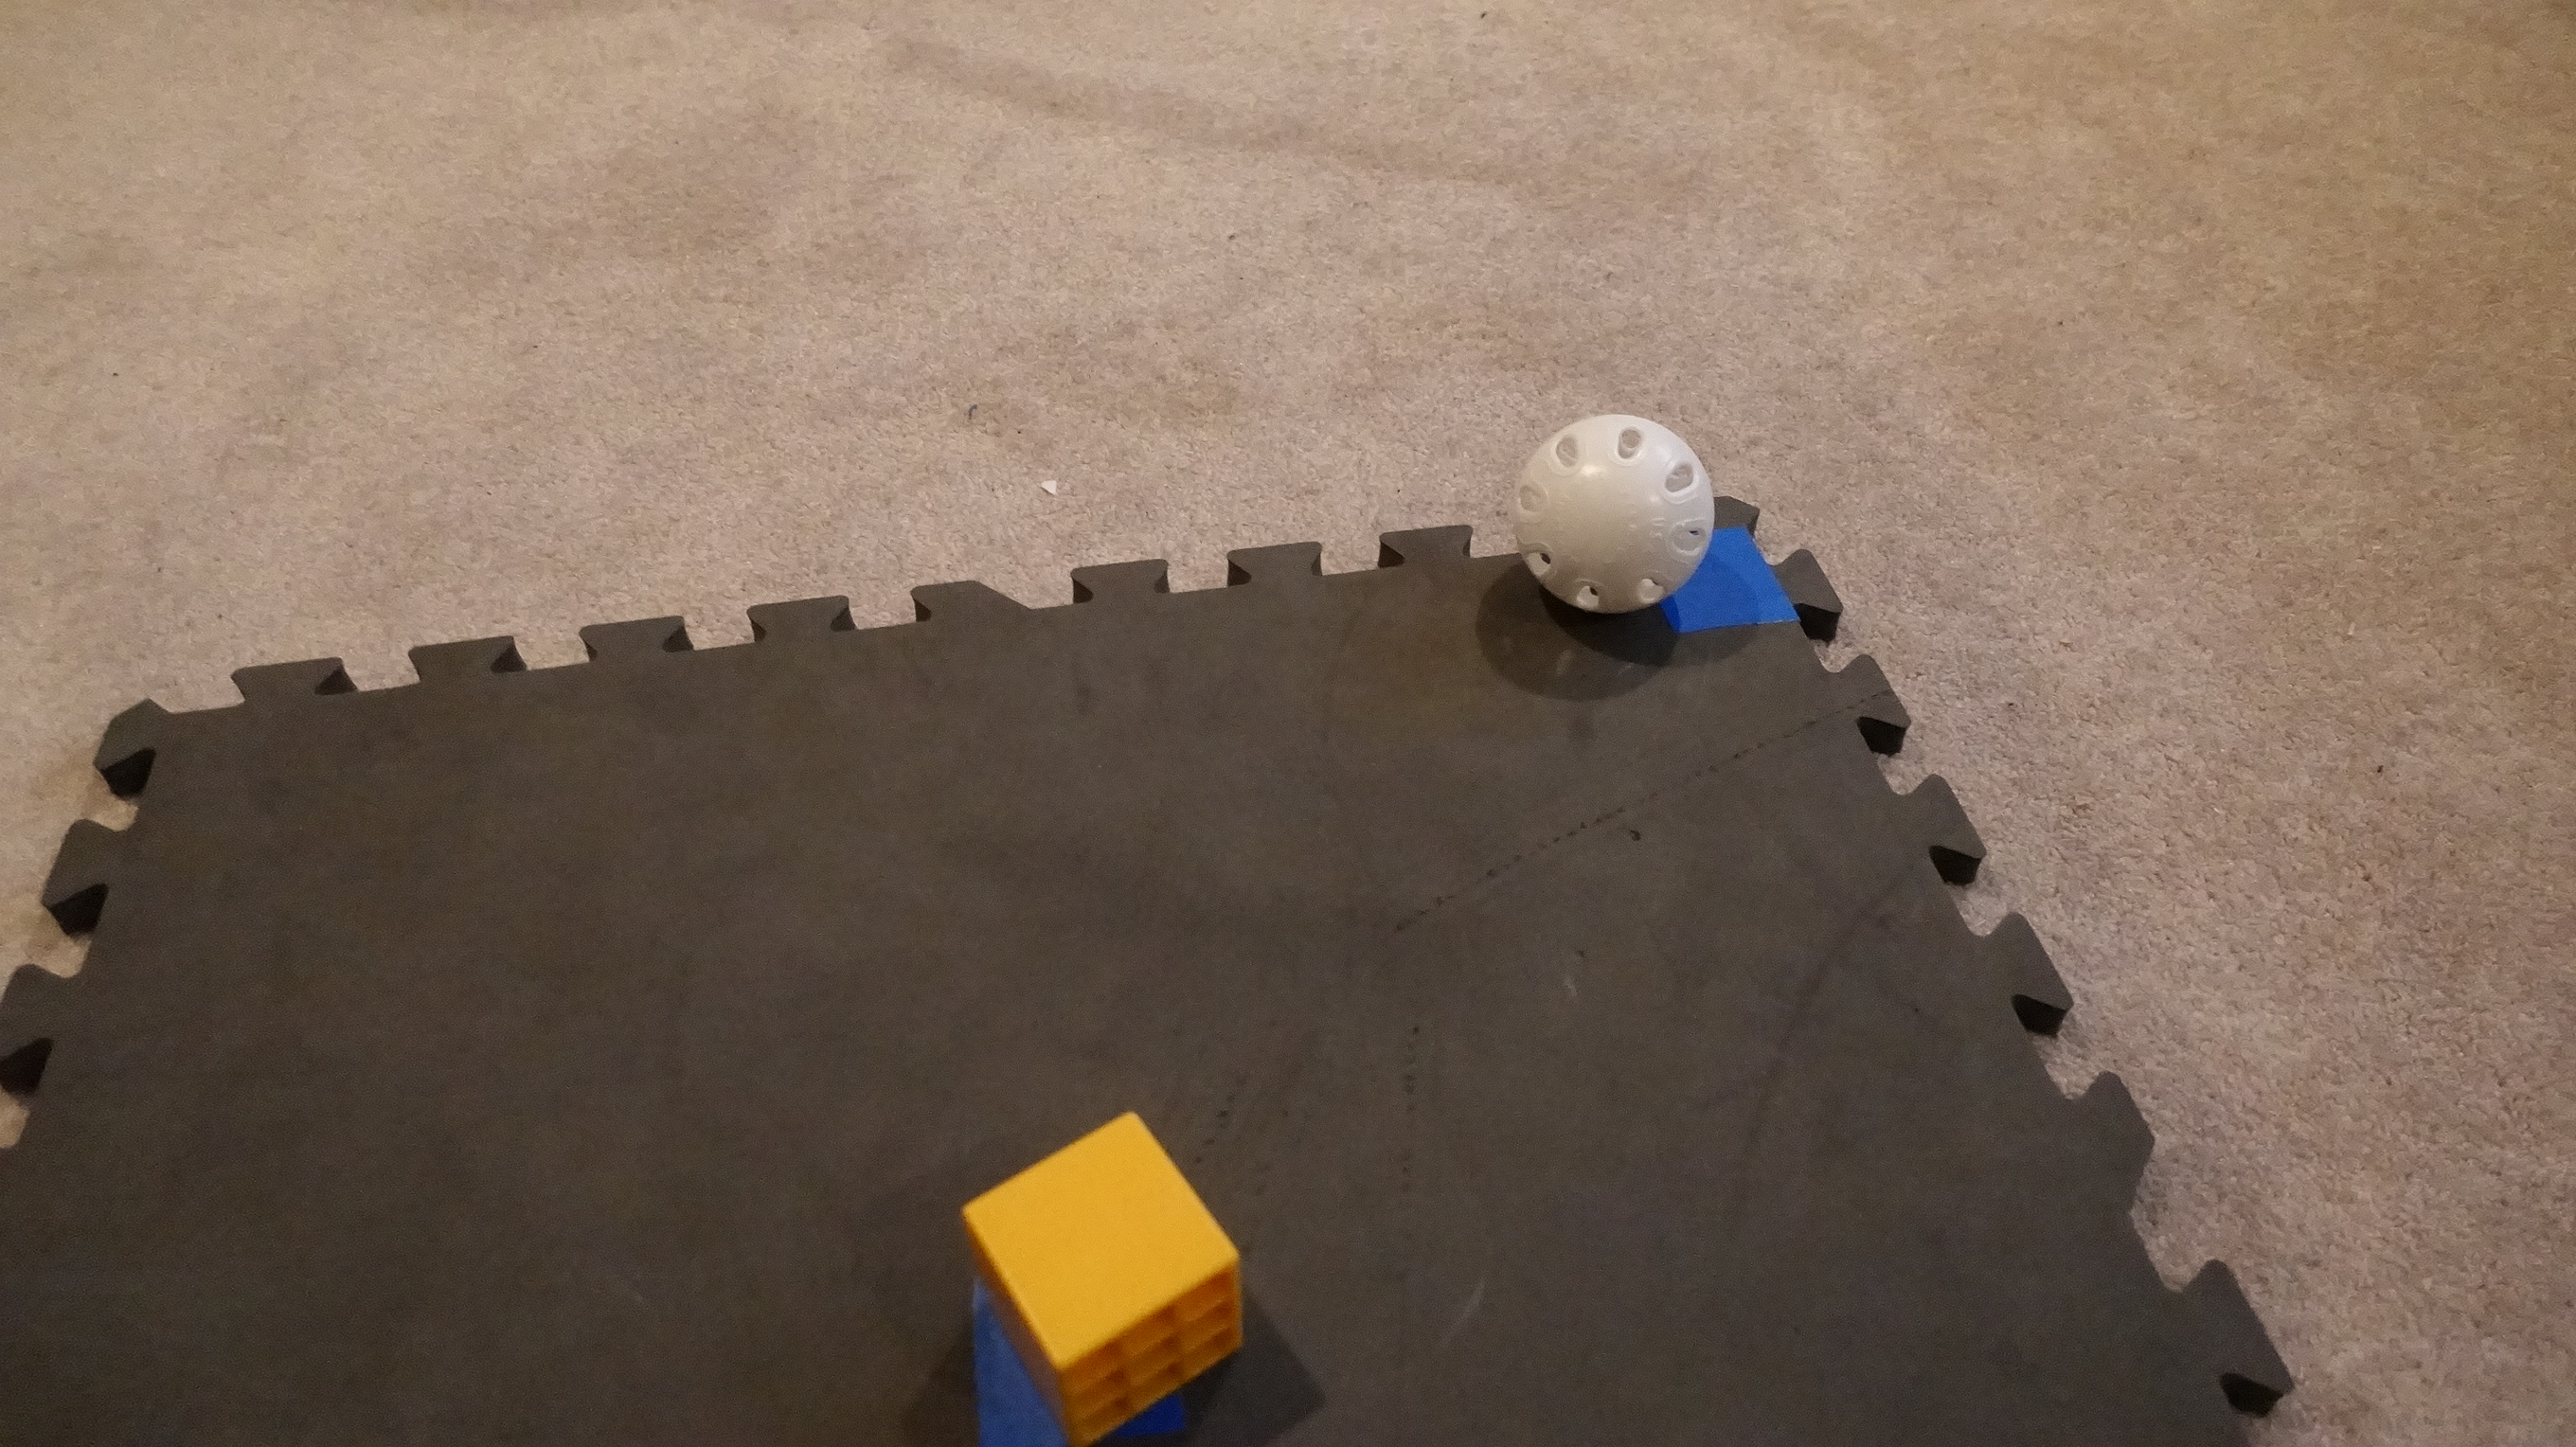gold: (952, 1109, 1256, 1447)
silver: (1504, 409, 1718, 621)
